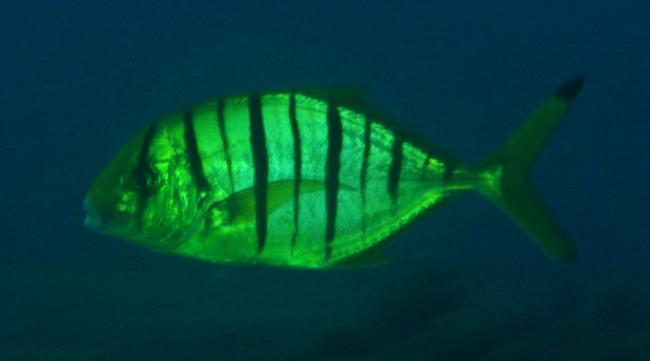fish: (82, 73, 591, 275)
